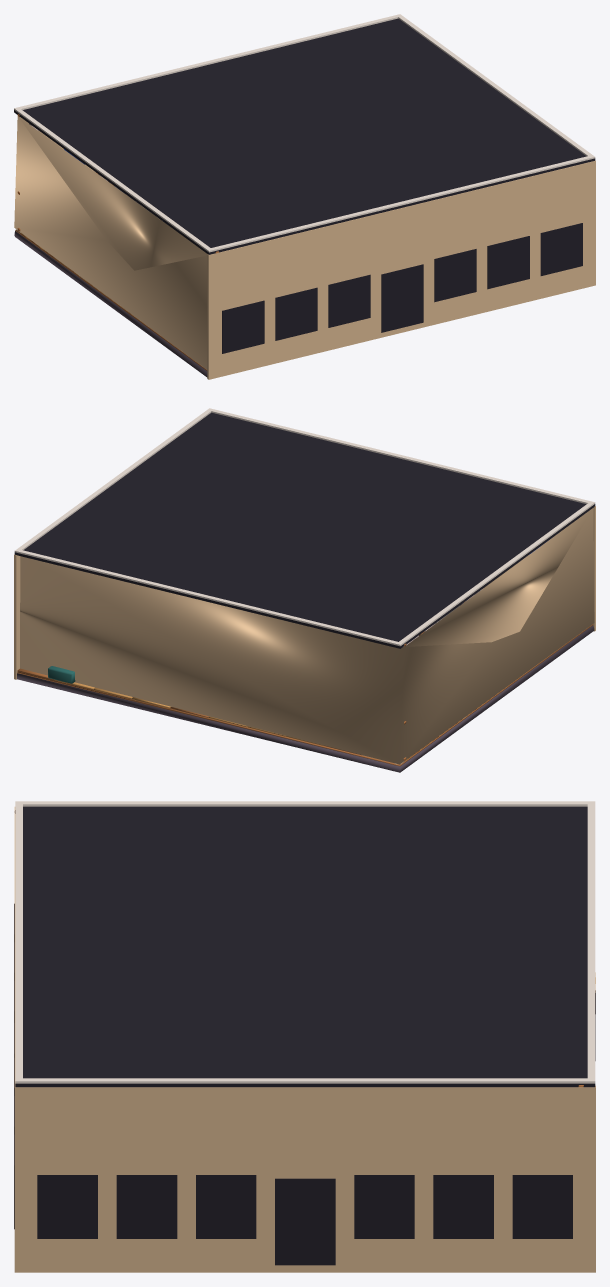
File: bld.gym.lod1.glb
3 renders of one model, top to bottom at view 1: azimuth 30°, elevation 25°; view 2: azimuth 150°, elevation 25°; view 3: azimuth 270°, elevation 25°, orthographic. The views are drawn at different scales.
Parts seen in each view (by area): view 1: roof, interior; view 2: roof, interior; view 3: roof.
Part boxes in pixels (box(x1,y1,x2,y2)): roof: box(14, 14, 595, 379); interior: box(14, 114, 218, 377); roof: box(14, 408, 595, 679); interior: box(17, 508, 594, 772); roof: box(14, 801, 595, 1272).
Bounding box in the file's own units: 16.02 × 5.08 × 14.02.
